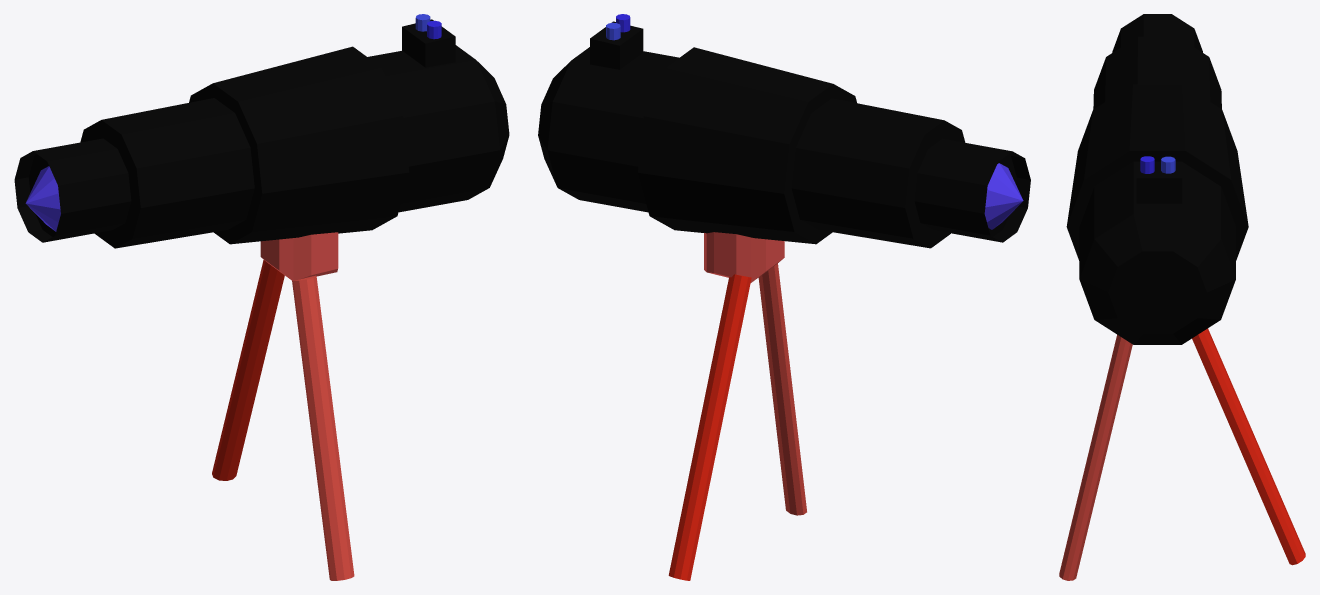
Rendered from telescopefinal.fbx.
The picture shows the model from 3 angles, left to right: view 1: azimuth 30°, elevation 25°; view 2: azimuth 150°, elevation 25°; view 3: azimuth 270°, elevation 25°; orthographic projection. The views are drawn at different scales.
Parts seen in each view (by area): view 1: Cylinder, Cylinder.002, Cylinder.001, Cube, Cube.001, Cylinder.003; view 2: Cylinder, Cylinder.001, Cylinder.002, Cube, Cube.001, Cylinder.003; view 3: Cylinder, Cylinder.001, Cylinder.002, Cube.001.
Part boxes in pixels (x1,y1,x2,y2): Cylinder: (14,45,509,248); Cylinder.002: (292,275,354,580); Cylinder.001: (212,260,284,480); Cube: (260,232,338,281); Cube.001: (402,19,455,67); Cylinder.003: (25,166,60,231); Cylinder: (538,47,1030,248); Cylinder.001: (668,274,751,580); Cylinder.002: (758,263,806,515); Cube: (704,232,784,282); Cube.001: (590,21,643,69); Cylinder.003: (984,163,1023,229); Cylinder: (1066,14,1248,344); Cylinder.001: (1192,328,1305,565); Cylinder.002: (1059,334,1132,580); Cube.001: (1136,164,1182,203).
Bounding box in the file's own units: 654 × 667 × 309.
